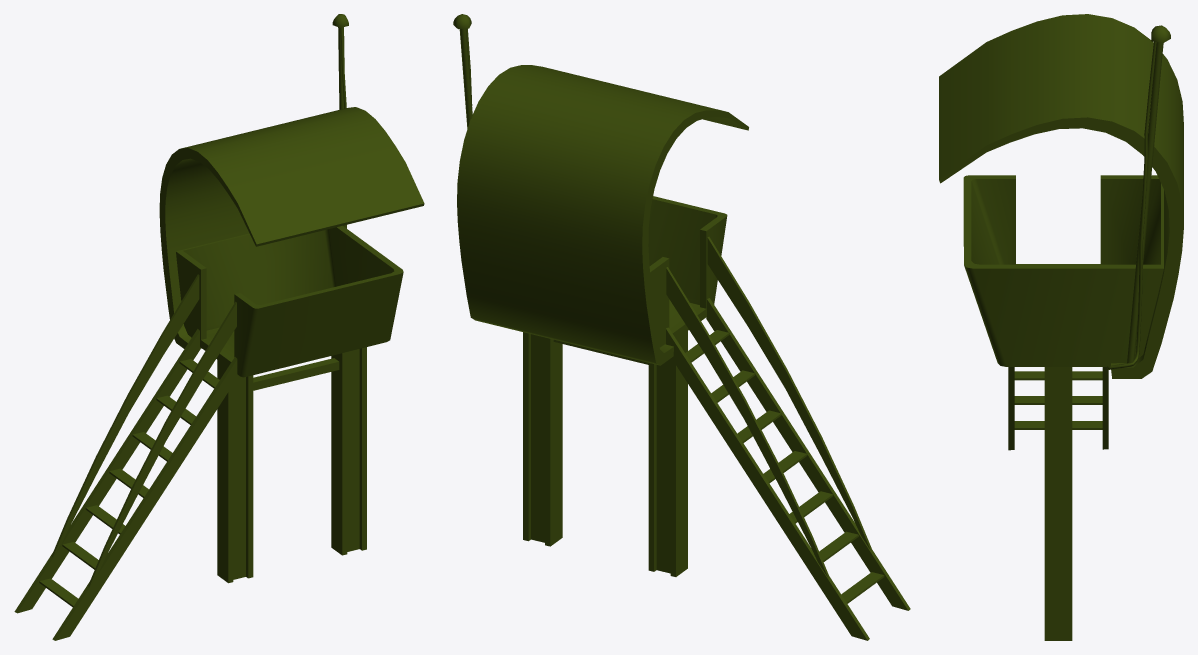
File: T1_Pod_M.fbx
The picture shows the model from 3 angles, left to right: view 1: azimuth 30°, elevation 25°; view 2: azimuth 150°, elevation 25°; view 3: azimuth 270°, elevation 25°; orthographic projection. The views are drawn at different scales.
Parts seen in each view (by area): view 1: T1_Pod; view 2: T1_Pod; view 3: T1_Pod.
Part boxes in pixels (x1,y1,x2,y2): T1_Pod: (14,14,424,640); T1_Pod: (453,14,910,640); T1_Pod: (939,14,1183,640).
Size of the model in its own units: 2.53 by 3.41 by 1.2.
